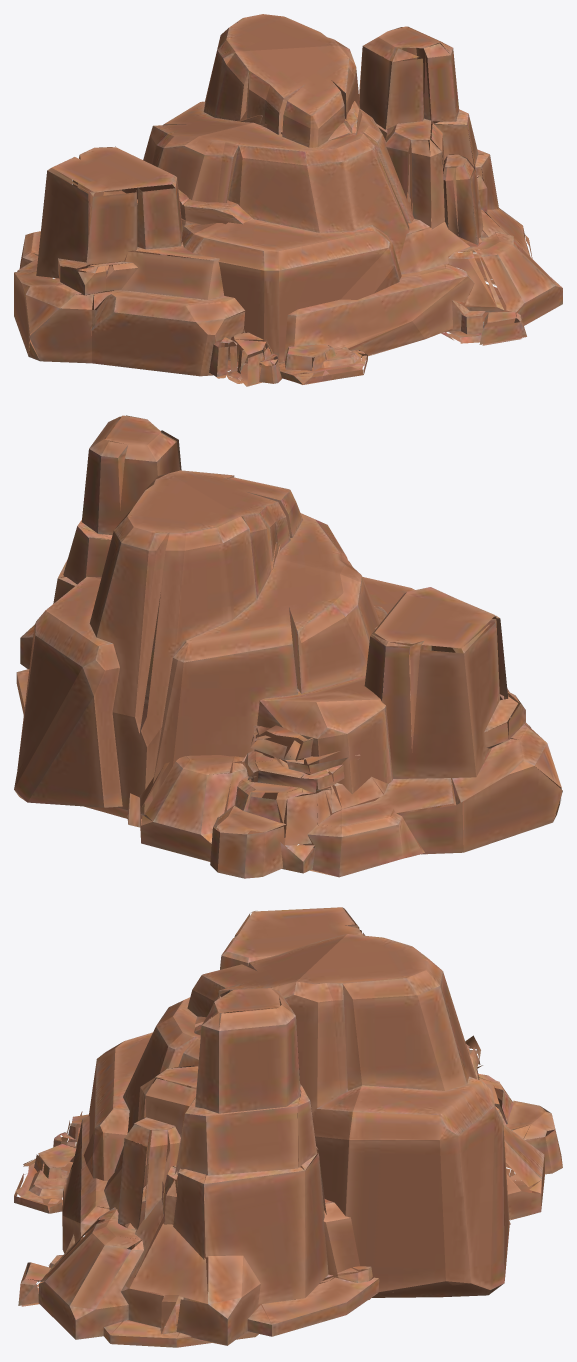
The model's file is scenery-canyon.glb.
3 views of the same model, one above another, from view 1: azimuth 30°, elevation 25°; view 2: azimuth 150°, elevation 25°; view 3: azimuth 270°, elevation 25° (orthographic). The views are drawn at different scales.
Visible parts, largest first — view 1: desert_rocks_0_0, desert_rocks_1_0, desert_rocks_2_0; view 2: desert_rocks_1_0, desert_rocks_0_0; view 3: desert_rocks_0_0, desert_rocks_1_0, desert_rocks_2_0.
Part boxes in pixels (box(x1,y1,x2,y2)): desert_rocks_0_0: box(14, 26, 562, 386); desert_rocks_1_0: box(63, 14, 423, 366); desert_rocks_2_0: box(80, 101, 445, 362); desert_rocks_1_0: box(14, 470, 414, 847); desert_rocks_0_0: box(16, 415, 562, 878); desert_rocks_0_0: box(14, 907, 562, 1347); desert_rocks_1_0: box(83, 934, 509, 1297); desert_rocks_2_0: box(131, 1016, 364, 1299).
Bounding box in the file's own units: 14.2 × 7.01 × 11.5.
Materials: 17 (17 with a texture image).
